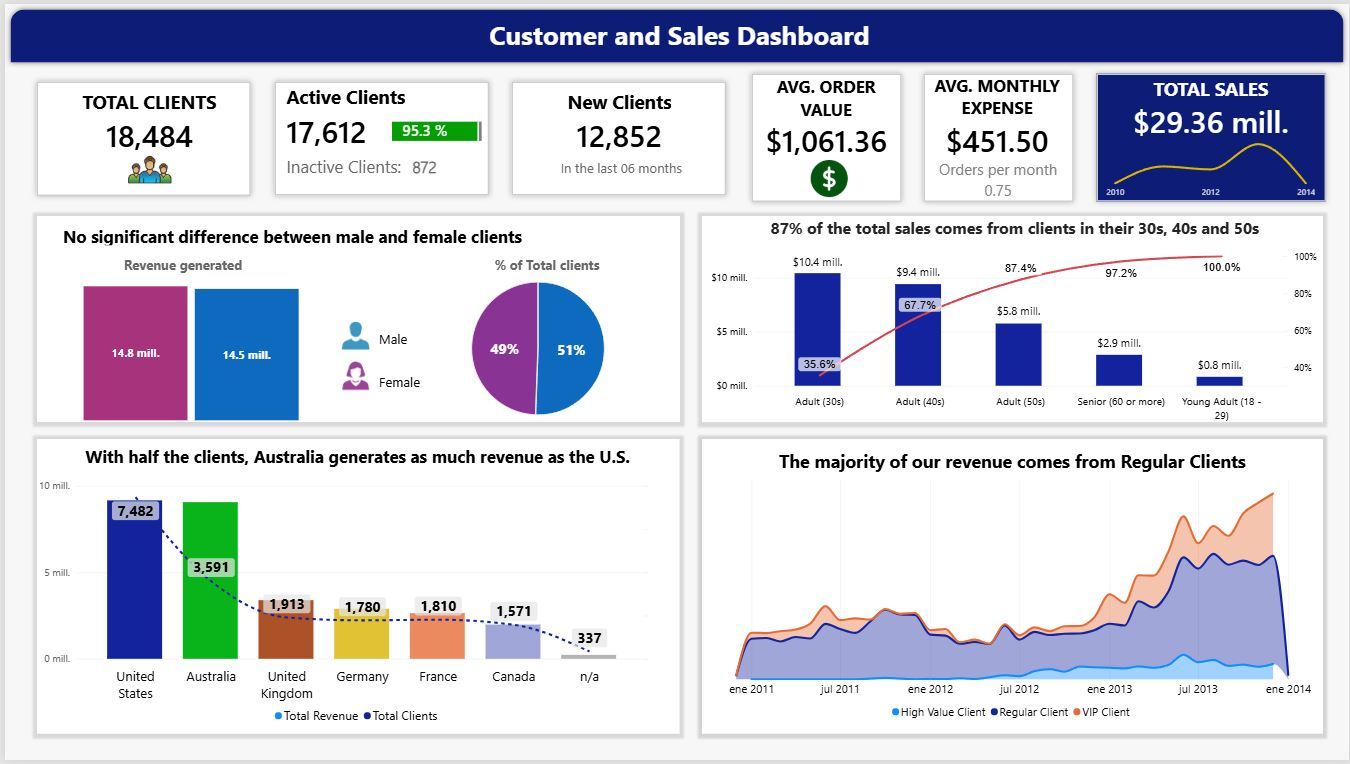

Layout of this report page (visuals, bound fields, positions):
{"tool":"powerbi","page":{"name":"Clients","canvas":[1920,1080],"ordinal":0},"visuals":[{"type":"shape","box":[377.7,103.3,322.5,178.6],"z":0},{"type":"cardVisual","fields":{"Data":["Clients.Active Clients"]},"box":[385.1,121.1,247,83.2],"z":1000},{"type":"cardVisual","fields":{"Data":["Clients.Inactive_Clients"]},"box":[400.3,205.6,192.4,55.5],"z":2000},{"type":"shape","box":[36.8,102.2,321.9,179.4],"z":3000},{"type":"cardVisual","fields":{"Data":["Clients.Inactive Clients"]},"box":[580,215.7,84.9,32.9],"z":4000},{"type":"barChart","fields":{"Y":["Clients.Active_Clients","Clients.Inactive_Clients"]},"box":[552.9,94.3,138.6,172.6],"z":5000},{"type":"shape","box":[715.5,103.1,322.5,178.6],"z":6000},{"type":"cardVisual","fields":{"Data":["Clients.Active_percentage"]},"box":[553,158.8,94.3,39.9],"z":7000},{"type":"cardVisual","fields":{"Data":["Clients.Total Clients"]},"box":[83.9,122.3,244.7,92.5],"z":8000},{"type":"image","box":[142.6,205.5,127.4,61.6],"z":9000},{"type":"cardVisual","fields":{"Data":["Clients.New Clients"]},"box":[755.3,122.8,244.7,92.5],"z":10000},{"type":"textbox","box":[762,221.4,238,26.2],"z":11000},{"type":"stackedAreaChart","title":"The majority of our revenue comes from Regular Clients","fields":{"Category":["Sales.order_date.Variación.Jerarquía de fechas.Año","Sales.order_date.Variación.Jerarquía de fechas.Mes"],"Series":["Clients.Expense_level"],"Y":["Sum(Sales.sales_amount)"]},"box":[995.8,621.8,886.5,421.3],"z":12000},{"type":"lineClusteredColumnComboChart","title":"With half the clients, Australia generates as much revenue as the U.S.","fields":{"Category":["Clients.country"],"Y":["Sum(Clients.total_sales)"],"Y2":["Clients.Total_Clients"]},"box":[46,621.8,918.1,421.3],"z":13000},{"type":"shape","box":[1059.2,91.9,230.2,199.3],"z":14000},{"type":"image","box":[1130.2,223.1,94.7,53],"z":15000},{"type":"shape","box":[1550.9,91.7,343.6,198.8],"z":16000},{"type":"cardVisual","fields":{"Data":["Sum(Sales.sales_amount)"]},"box":[1576.5,109.2,291.7,83.2],"z":17000},{"type":"lineChart","fields":{"Category":["Sales.order_date.Variación.Jerarquía de fechas.Año"],"Y":["Sum(Sales.sales_amount)"]},"box":[1573.1,178.9,298.6,102.9],"z":18000},{"type":"cardVisual","fields":{"Data":["Clients.Average Order Value"]},"box":[1058.9,104,229.6,117.2],"z":19000},{"type":"shape","box":[1303.6,91.7,230.2,199.3],"z":20000},{"type":"cardVisual","fields":{"Data":["Clients.Average Monthly Expense"]},"box":[1296.1,102,243.9,121.4],"z":21000},{"type":"cardVisual","fields":{"Data":["Clients.Average Monthly Orders"]},"box":[1296.1,218.7,246.4,63.2],"z":22000},{"type":"shape","box":[45.7,302.9,918.6,294.3],"z":23000},{"type":"columnChart","title":"Total Revenue","fields":{"Category":["Clients.gender"],"Y":["Clients.Revenue_sales"]},"box":[32.9,327.1,468.6,268.6],"z":24000},{"type":"pieChart","title":"Total Clients","fields":{"Category":["Clients.gender"],"Y":["Count(Sales.customer_id)"]},"box":[514.7,369.2,494.3,247],"z":25000},{"type":"shape","box":[995.8,303.5,886.5,294.5],"z":26000},{"type":"image","box":[478.9,509.7,45.3,41.6],"z":27000},{"type":"image","box":[478.9,453.1,45.3,41.6],"z":28000},{"type":"textbox","box":[534.2,465.8,71.7,32.4],"z":29000},{"type":"textbox","box":[534.2,527,71.7,32.4],"z":30000},{"type":"textbox","box":[110.7,360.3,288.8,29.1],"z":31000},{"type":"textbox","box":[629.4,360.3,288.8,29.1],"z":32000},{"type":"textbox","box":[83.4,315.4,834.8,29.1],"z":33000},{"type":"shape","box":[893.7,312.7,41.7,31.7],"z":34000},{"type":"lineClusteredColumnComboChart","title":"87% of the total sales comes from clients in their 30s, 40s and 50s","fields":{"Category":["Clients.Age_group"],"Y":["Clients.Revenue_sales"],"Y2":["Clients.%_Cum_revenue"]},"box":[1009.2,304.1,868,295.1],"z":35000},{"type":"shape","box":[0,0,1920,91.4],"z":36000},{"type":"textbox","box":[52.9,18.6,1821.4,72.9],"z":37000}]}

Visuals, with their boxes in screenshot pixels (x1, y1, x2, y2), scaled from the page's 1920x1080 canvas onto the 1350x764 screenshot:
shape: <bbox>266, 73, 492, 199</bbox>
cardVisual - Clients.Active Clients: <bbox>271, 86, 444, 145</bbox>
cardVisual - Clients.Inactive_Clients: <bbox>281, 145, 417, 185</bbox>
shape: <bbox>26, 72, 252, 199</bbox>
cardVisual - Clients.Inactive Clients: <bbox>408, 153, 468, 176</bbox>
barChart - Clients.Active_Clients x Clients.Inactive_Clients: <bbox>389, 67, 486, 189</bbox>
shape: <bbox>503, 73, 730, 199</bbox>
cardVisual - Clients.Active_percentage: <bbox>389, 112, 455, 141</bbox>
cardVisual - Clients.Total Clients: <bbox>59, 87, 231, 152</bbox>
image: <bbox>100, 145, 190, 189</bbox>
cardVisual - Clients.New Clients: <bbox>531, 87, 703, 152</bbox>
textbox: <bbox>536, 157, 703, 175</bbox>
"The majority of our revenue comes from Regular Clients" stackedAreaChart: <bbox>700, 440, 1323, 738</bbox>
"With half the clients, Australia generates as much revenue as the U.S." lineClusteredColumnComboChart: <bbox>32, 440, 678, 738</bbox>
shape: <bbox>745, 65, 907, 206</bbox>
image: <bbox>795, 158, 861, 195</bbox>
shape: <bbox>1090, 65, 1332, 206</bbox>
cardVisual - Sum(Sales.sales_amount): <bbox>1108, 77, 1314, 136</bbox>
lineChart - Sales.order_date.Variación.Jerarquía de fechas.Año x Sum(Sales.sales_amount): <bbox>1106, 127, 1316, 199</bbox>
cardVisual - Clients.Average Order Value: <bbox>745, 74, 906, 156</bbox>
shape: <bbox>917, 65, 1078, 206</bbox>
cardVisual - Clients.Average Monthly Expense: <bbox>911, 72, 1083, 158</bbox>
cardVisual - Clients.Average Monthly Orders: <bbox>911, 155, 1085, 199</bbox>
shape: <bbox>32, 214, 678, 422</bbox>
"Total Revenue" columnChart: <bbox>23, 231, 353, 421</bbox>
"Total Clients" pieChart: <bbox>362, 261, 709, 436</bbox>
shape: <bbox>700, 215, 1323, 423</bbox>
image: <bbox>337, 361, 369, 390</bbox>
image: <bbox>337, 321, 369, 350</bbox>
textbox: <bbox>376, 330, 426, 352</bbox>
textbox: <bbox>376, 373, 426, 396</bbox>
textbox: <bbox>78, 255, 281, 275</bbox>
textbox: <bbox>443, 255, 646, 275</bbox>
textbox: <bbox>59, 223, 646, 244</bbox>
shape: <bbox>628, 221, 658, 244</bbox>
"87% of the total sales comes from clients in their 30s, 40s and 50s" lineClusteredColumnComboChart: <bbox>710, 215, 1320, 424</bbox>
shape: <bbox>0, 0, 1349, 65</bbox>
textbox: <bbox>37, 13, 1318, 65</bbox>
